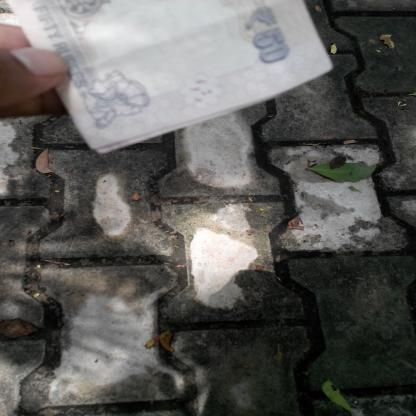Old50Back: (5, 0, 334, 153)
